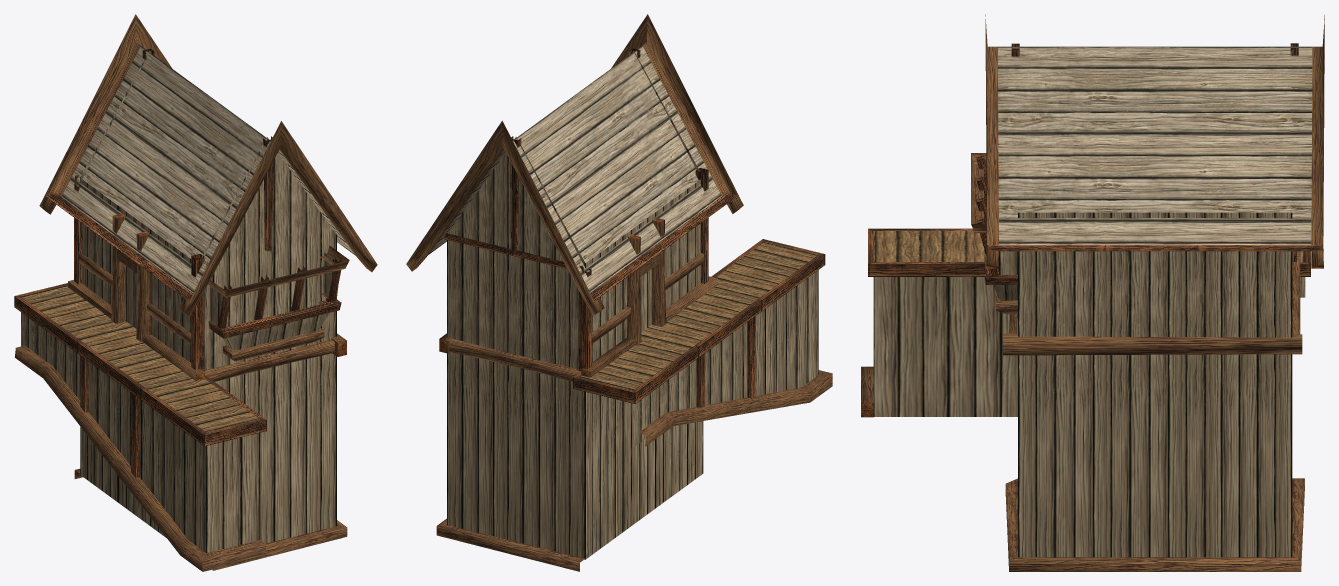
The model's file is LAKETOWN_EXTERIOR_PS_LT_FISHHOUSE756__GX.obj.
The picture shows the model from 3 angles, left to right: view 1: azimuth 30°, elevation 25°; view 2: azimuth 150°, elevation 25°; view 3: azimuth 270°, elevation 25°; orthographic projection. The views are drawn at different scales.
Parts seen in each view (by area): view 1: ishHouse756__GX; view 2: ishHouse756__GX; view 3: ishHouse756__GX.
Boxes of the visible parts, bbox=[...] form: ishHouse756__GX: bbox=[14, 14, 377, 571]; ishHouse756__GX: bbox=[406, 14, 832, 571]; ishHouse756__GX: bbox=[861, 14, 1324, 571].
Size of the model in its own units: 742 by 1369 by 1118.
